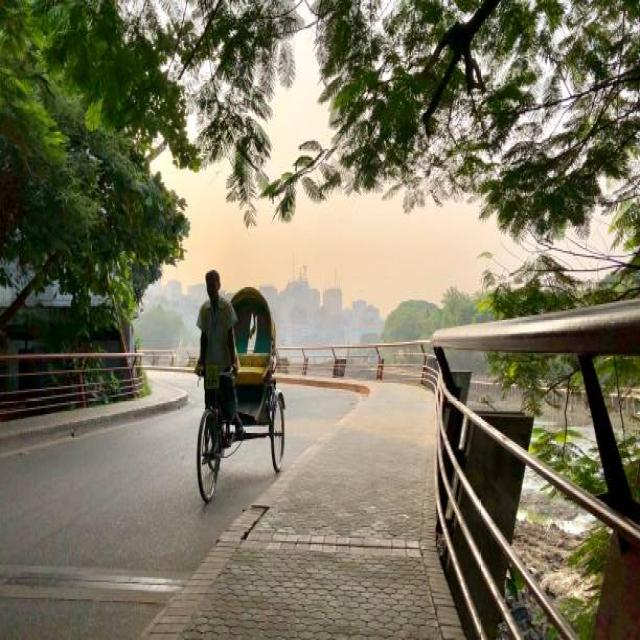rickshaw: (187, 265, 280, 484)
